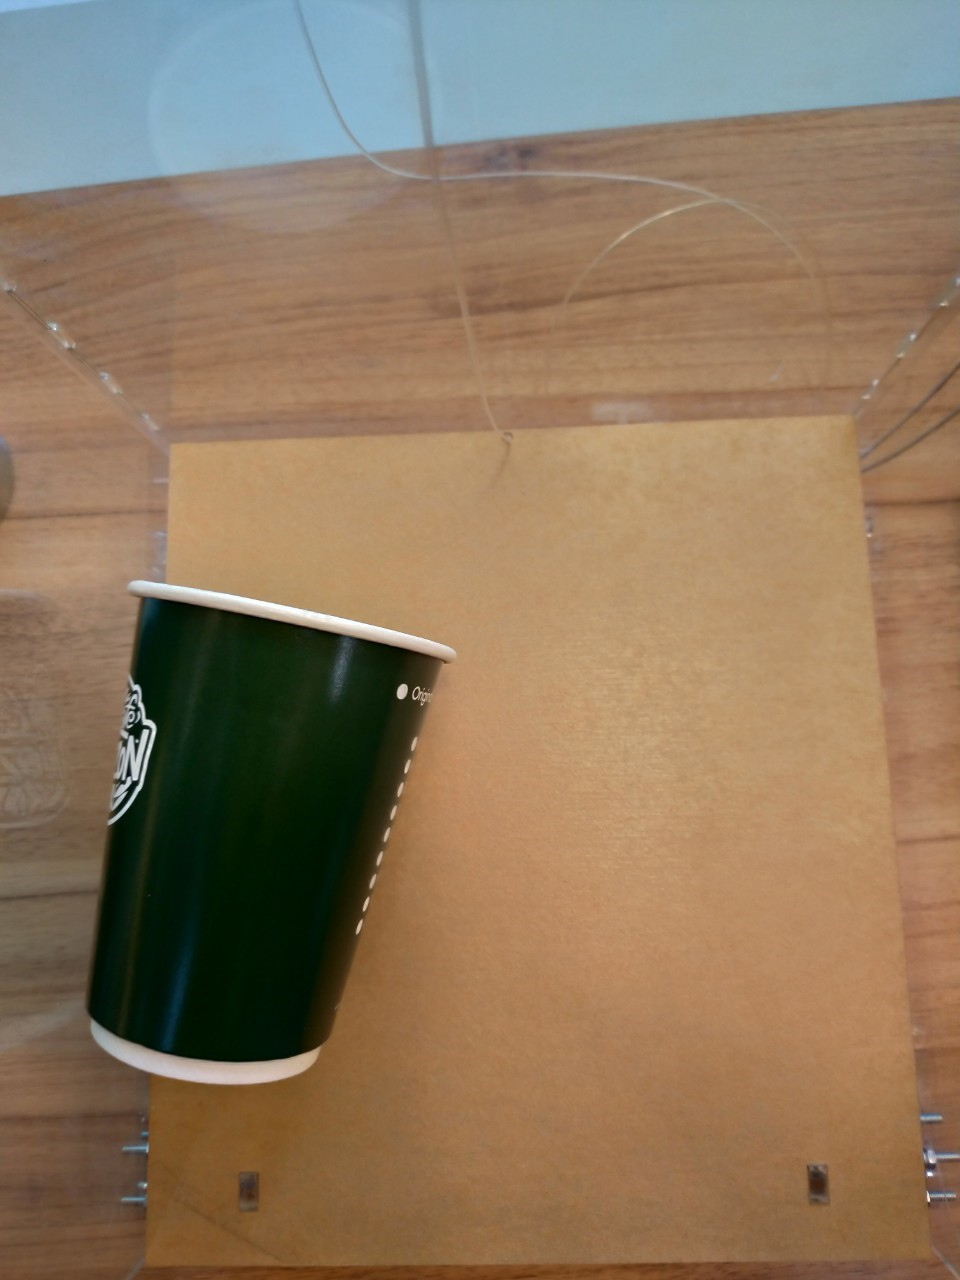PaperCup: (84, 578, 461, 1092)
